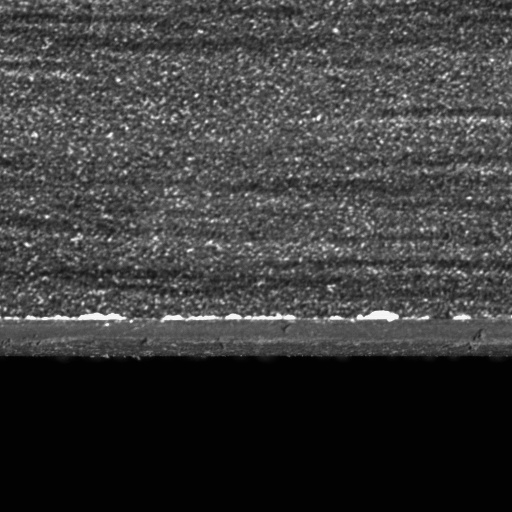huashang: (161, 314, 297, 321), (357, 309, 399, 323), (77, 310, 128, 321)
